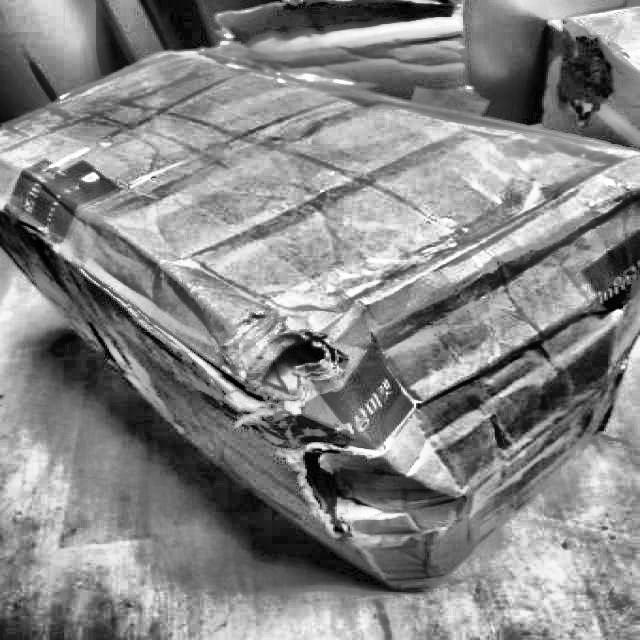box: (0, 27, 639, 600)
hole: (236, 323, 350, 396), (297, 441, 351, 543)
